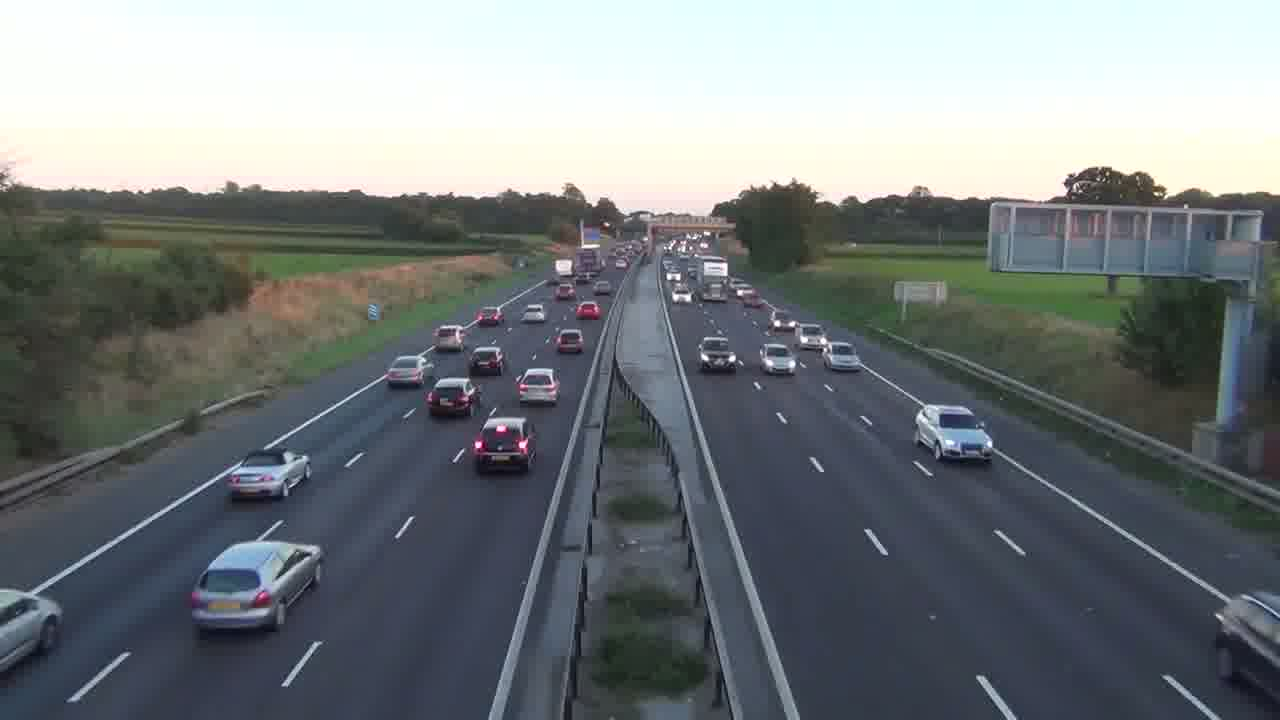car: (188, 539, 323, 633), (0, 586, 63, 675), (912, 403, 994, 464), (225, 449, 312, 502), (471, 414, 538, 474), (425, 377, 481, 419), (514, 367, 560, 405), (384, 354, 429, 389), (759, 342, 797, 375), (821, 340, 860, 372), (555, 328, 584, 355), (575, 301, 601, 319)
truck: (1211, 589, 1279, 706)
